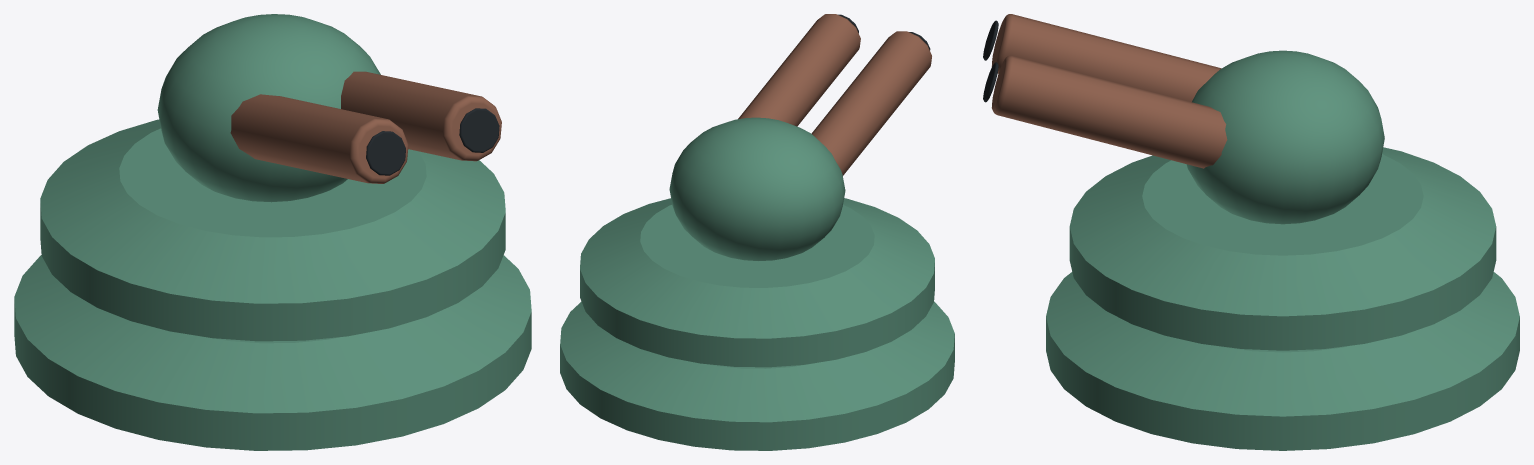
3 views of the same model, side by side, from view 1: azimuth 30°, elevation 25°; view 2: azimuth 150°, elevation 25°; view 3: azimuth 270°, elevation 25° (orthographic). The views are drawn at different scales.
Parts seen in each view (by area): view 1: Terraced oval hull.001, Terraced oval hull, Weapon pivot, Weapon barrel, Weapon barrel.001, Weapon dark bore.001, Weapon dark bore; view 2: Terraced oval hull.001, Terraced oval hull, Weapon pivot, Weapon barrel, Weapon barrel.001; view 3: Terraced oval hull.001, Terraced oval hull, Weapon pivot, Weapon barrel.001, Weapon barrel.
Boxes of the visible parts, <box> form: Terraced oval hull.001: <box>40,119,505,341</box>; Terraced oval hull: <box>14,255,531,450</box>; Weapon pivot: <box>157,14,380,202</box>; Weapon barrel: <box>230,94,408,183</box>; Weapon barrel.001: <box>341,71,501,161</box>; Weapon dark bore.001: <box>459,108,499,152</box>; Weapon dark bore: <box>366,131,405,175</box>; Terraced oval hull.001: <box>580,198,934,367</box>; Terraced oval hull: <box>560,301,954,450</box>; Weapon pivot: <box>669,117,845,260</box>; Weapon barrel: <box>811,31,931,175</box>; Weapon barrel.001: <box>738,14,860,126</box>; Terraced oval hull.001: <box>1069,147,1496,350</box>; Terraced oval hull: <box>1046,272,1519,450</box>; Weapon pivot: <box>1186,50,1384,224</box>; Weapon barrel.001: <box>991,55,1227,168</box>; Weapon barrel: <box>991,14,1221,101</box>.
Bounding box in the file's own units: 2 × 1.56 × 2.27.
